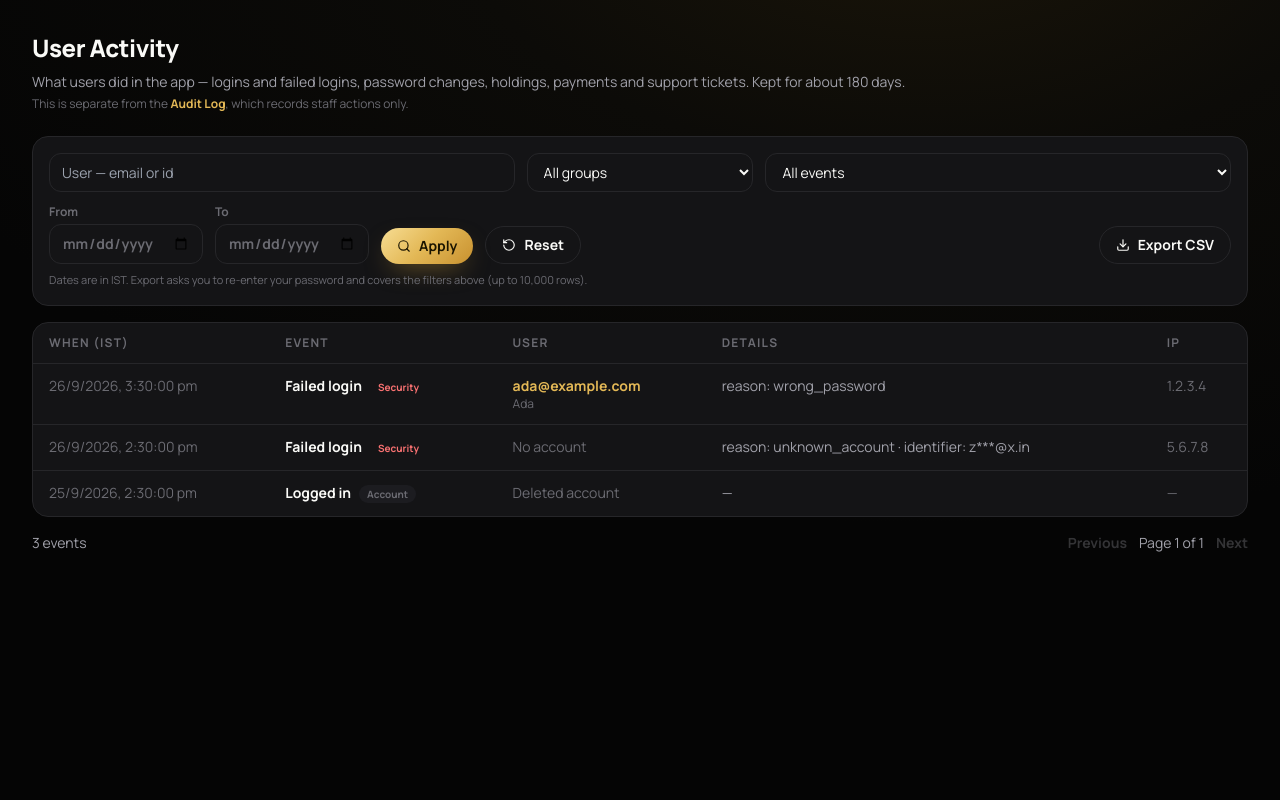
it: admin UserActivity › CSV export › cancelling the step-up prompt exports nothing and shows no error
The width and height of the screenshot is (1280, 800).
Expected: the table with test id "admin-activity-table" is shown, [33, 322, 1247, 516]
Click the button with test id "admin-activity-export-btn".
click(1165, 245)  # box [1099, 226, 1231, 264]
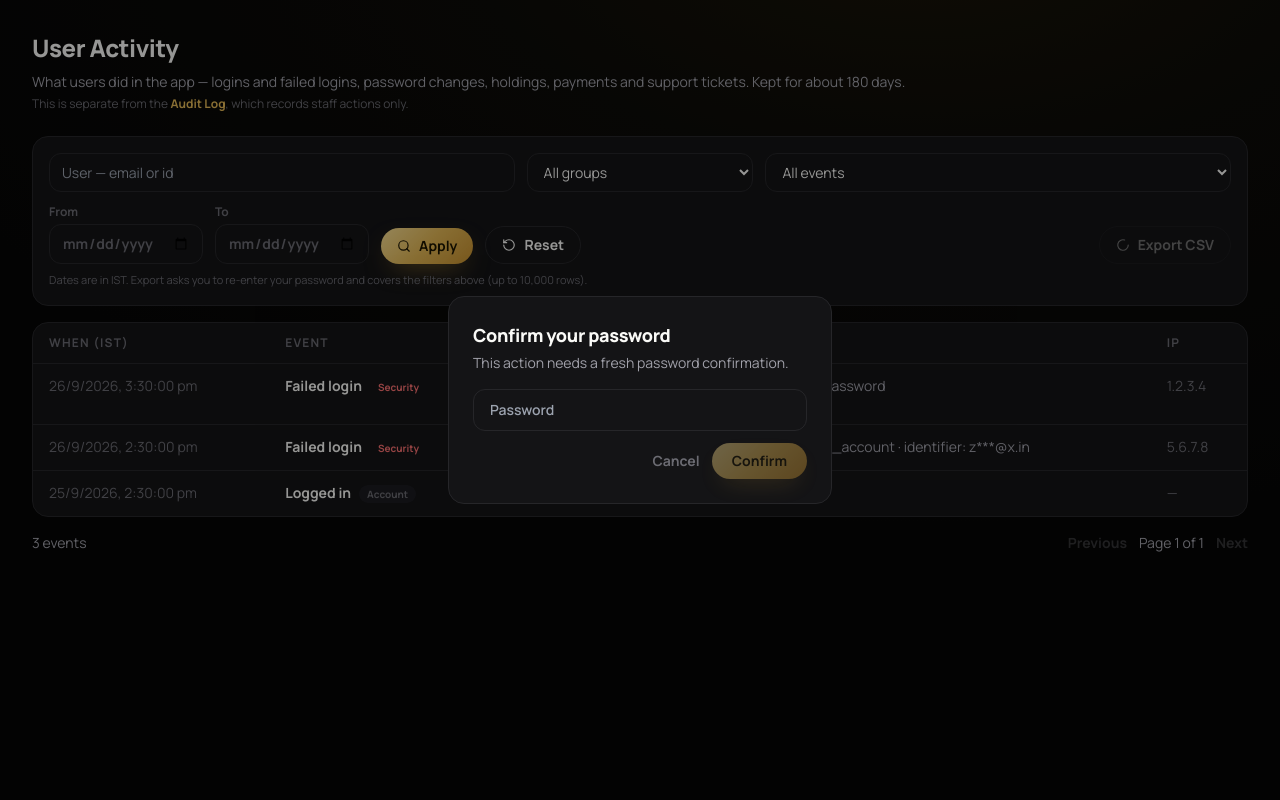
Now the element with test id "admin-stepup-modal" is shown
Click the button with test id "admin-stepup-cancel-btn".
click(676, 461)  # box [652, 451, 700, 471]
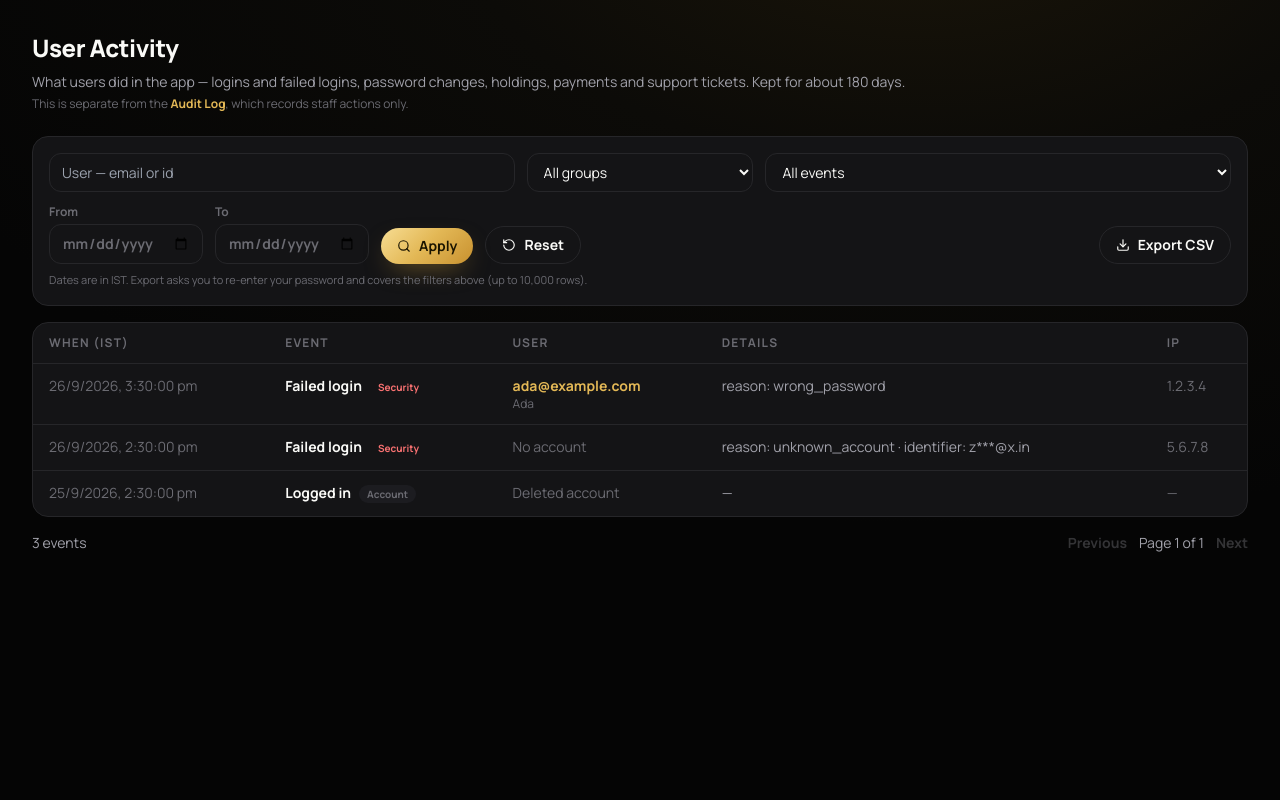
Now the button with test id "admin-activity-export-btn" is enabled, box [1099, 226, 1231, 264]
